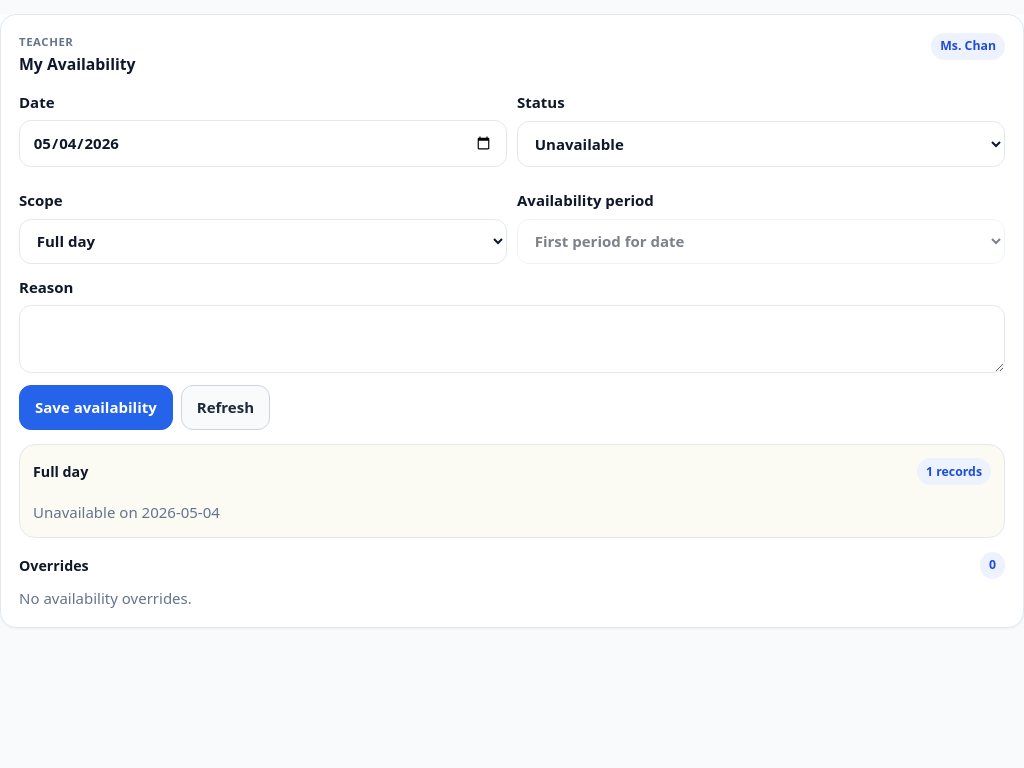
Scenario: TeacherAvailabilityPanel › loads existing teacher availability without allowing a different teacher actor in the UI
Click the button "Refresh": (225, 408) [181,385,270,430]
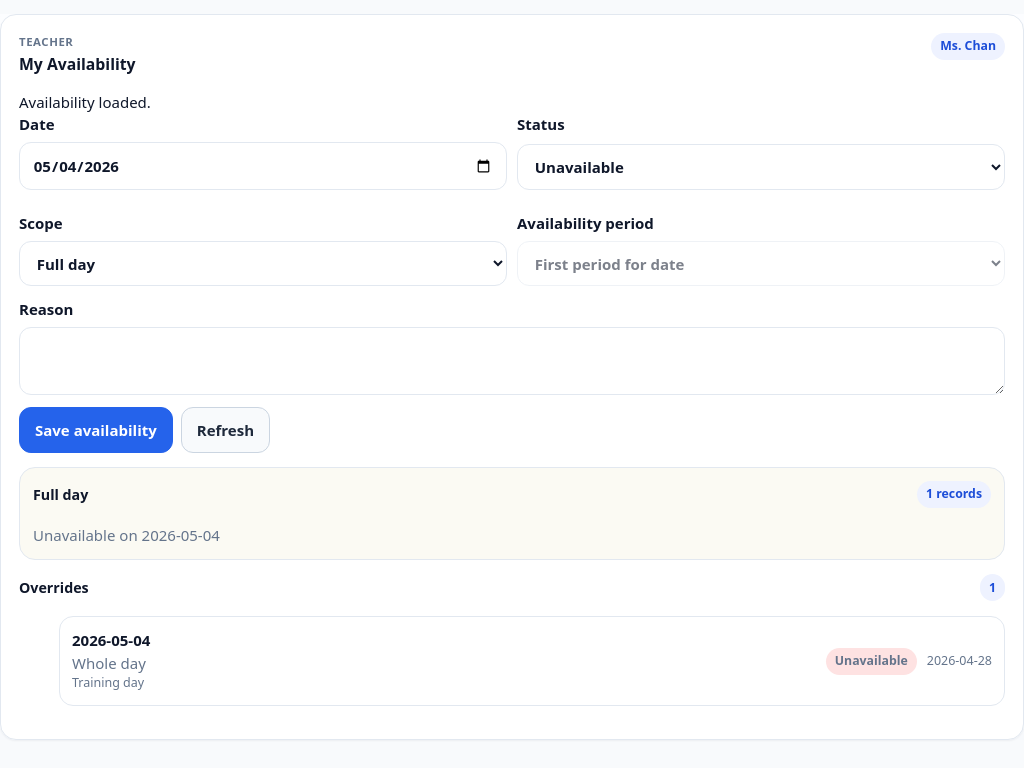
Expected: the element named "Teacher availability self-service" shows "Ms. Chan", [940,37,996,54]
Now the text "Availability loaded." is shown, box [19,92,151,112]
Now the text "Training day" is shown, box [72,674,144,692]
